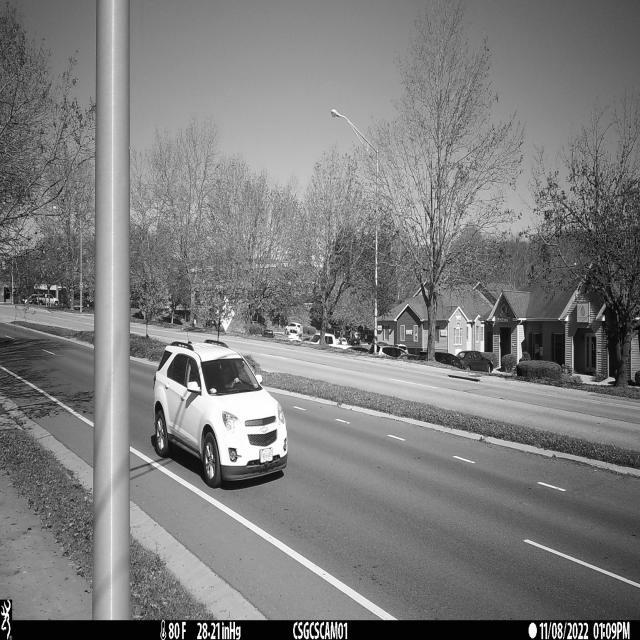SUV: (151, 336, 288, 489)
